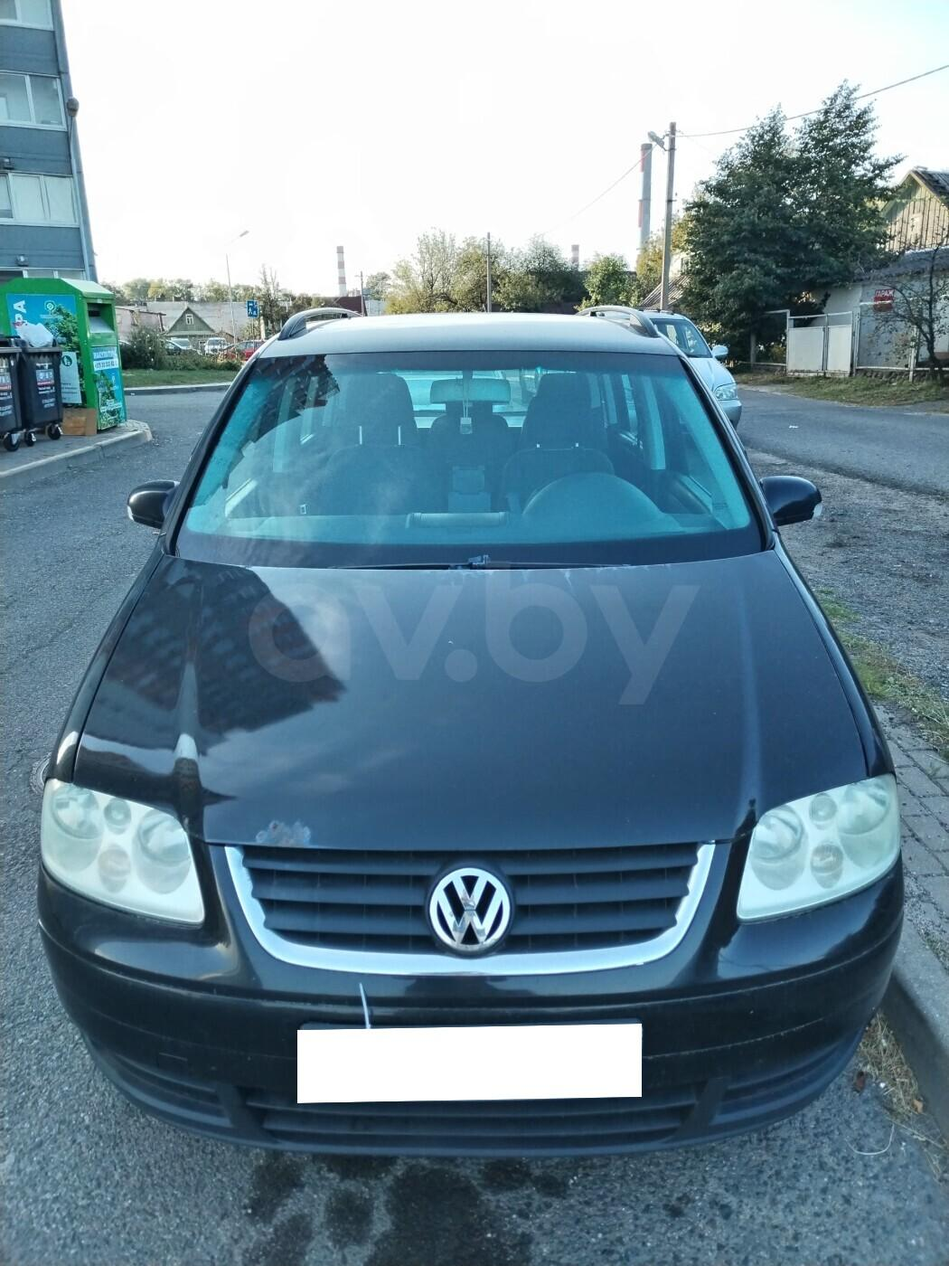Touran_2003-2006: (31, 307, 907, 1147)
